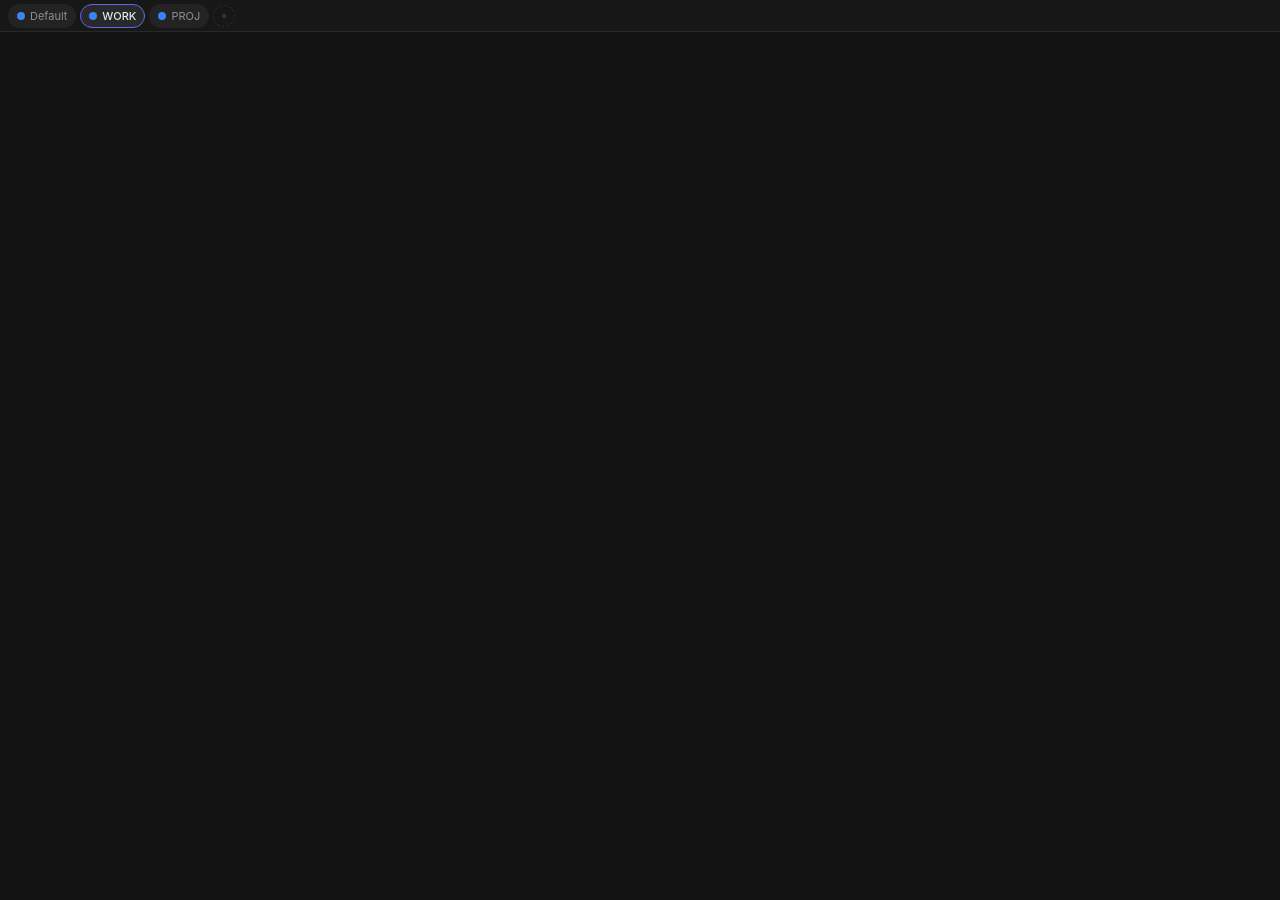
Test case: WorkspaceSwitcher › the context menu › closes on an outside mousedown
Right-click the button "PROJ".
right_click(179, 16)  # box [149, 4, 209, 28]
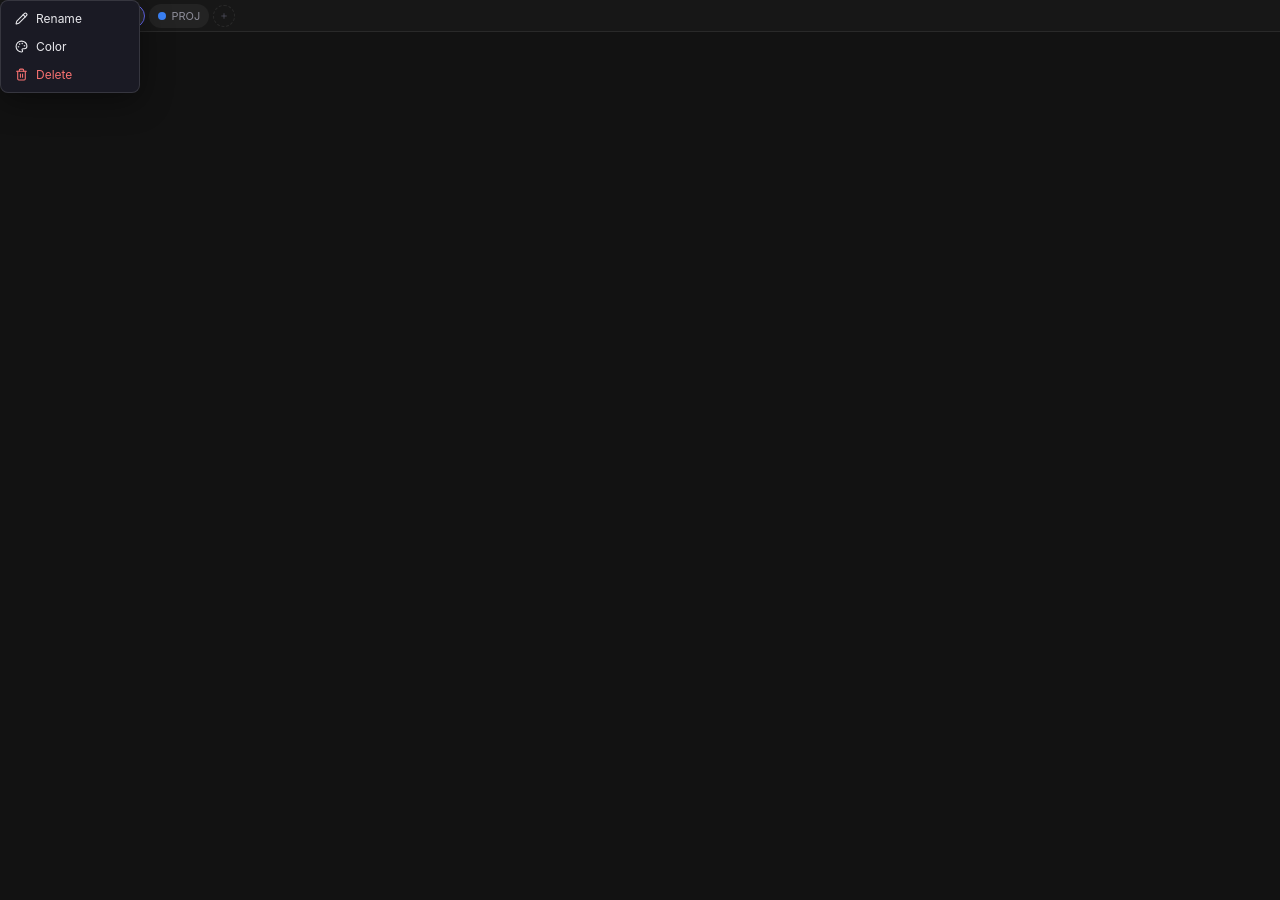
Press the mouse on the element showing "Default WORK PROJ Rename Color Delete" at (640,450), box [0, 0, 1279, 899]
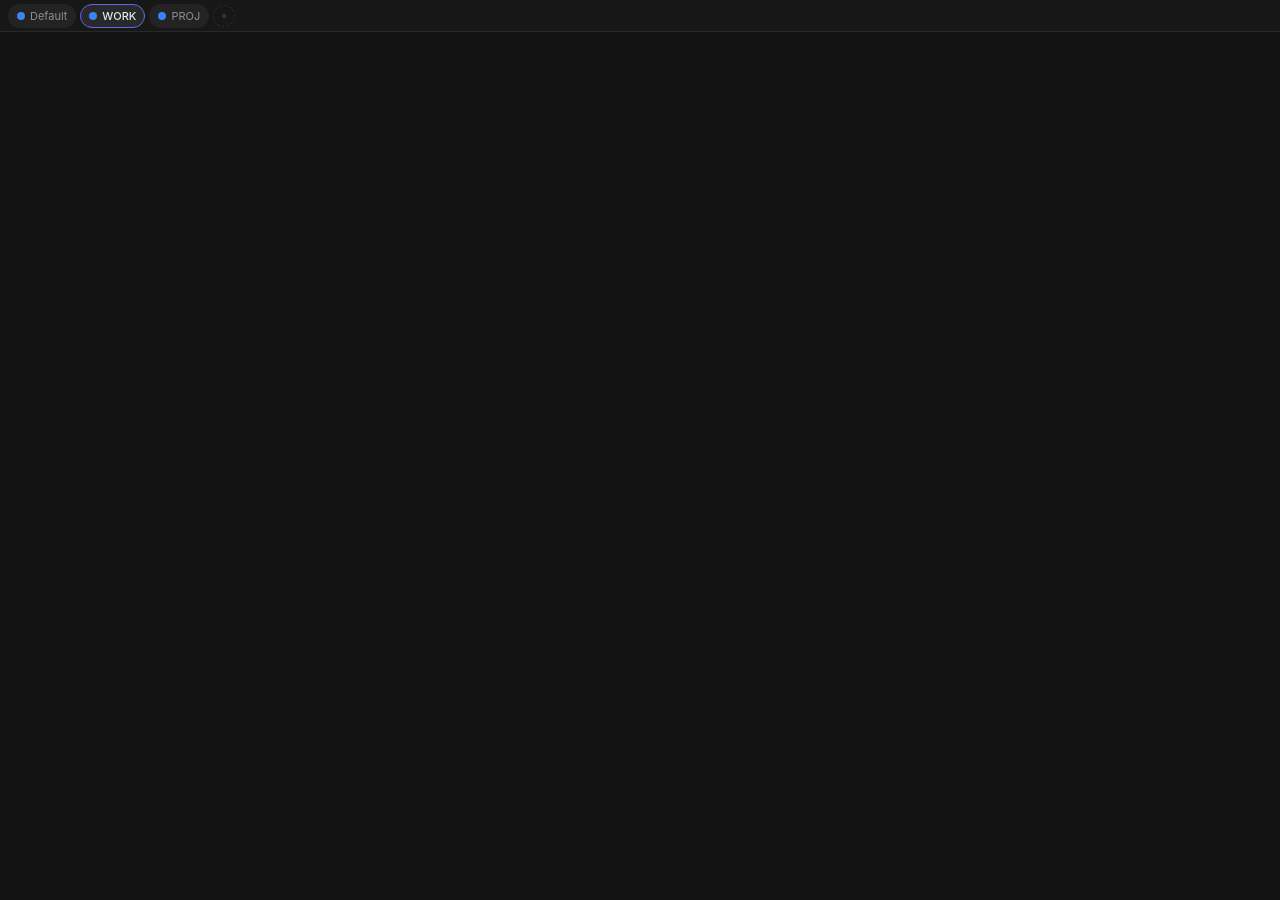
expect the menu is gone: met
